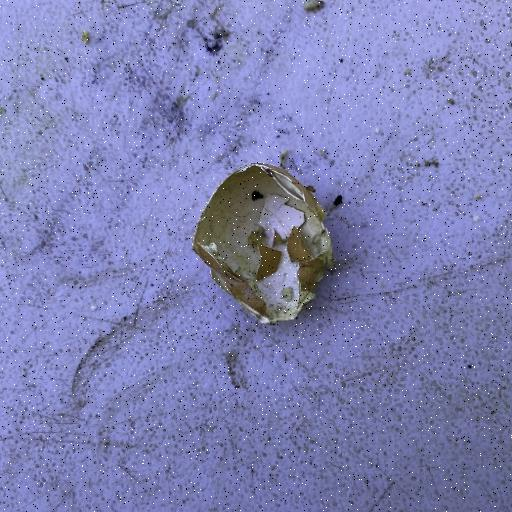Waste: (191, 162, 335, 326)
